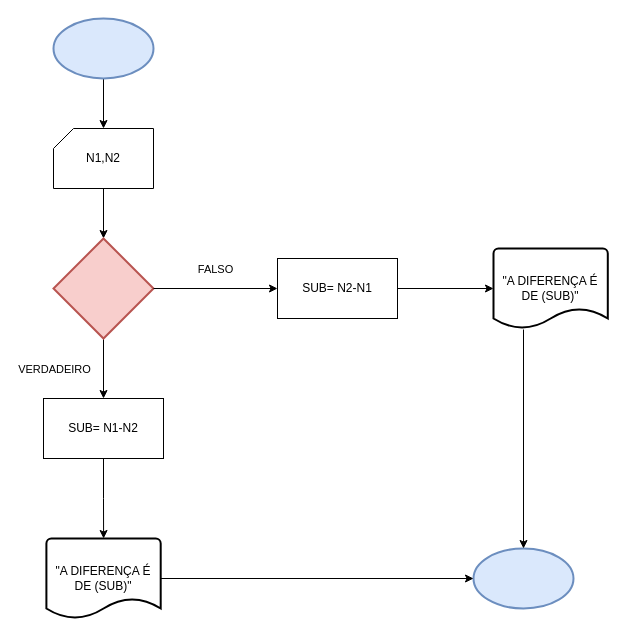
Image size: 626x636. Some labels were removed from this diagram. Here are the shapes that lost their labels. From the top down, the centre of each, then its label:
(103,48): INÍCIO
(103,288): N1>=N2
(523,578): FIM
